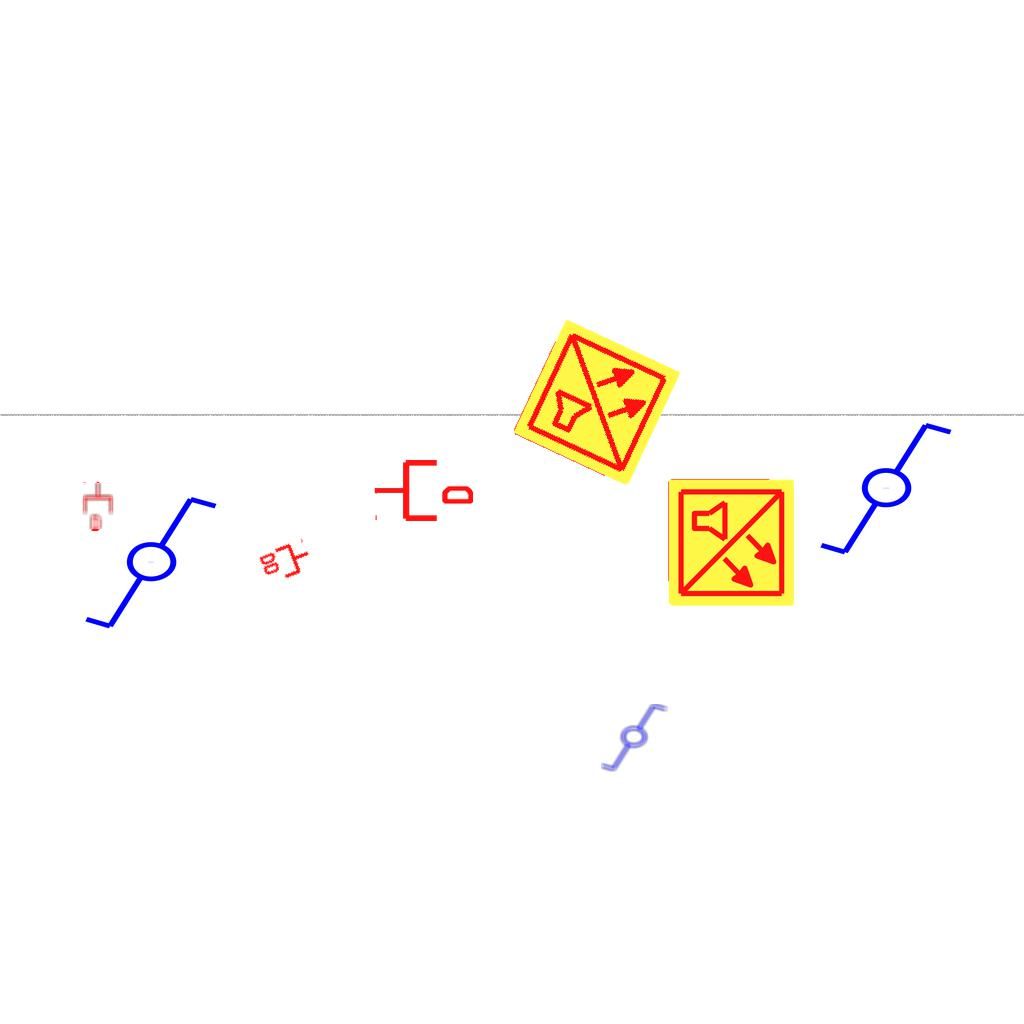Datenanschluss_einfach: (373, 456, 473, 525), (81, 481, 115, 531)
Datenanschluss_zweifach: (256, 537, 316, 588)
OKW_Multisensormelder_(Kombination_optischer_Rauch-Kahlenmonoxid_Waerme-Melder): (509, 315, 685, 491), (665, 477, 797, 609)
Wechselschalter: (816, 418, 973, 562), (81, 492, 238, 636), (599, 702, 677, 774)
